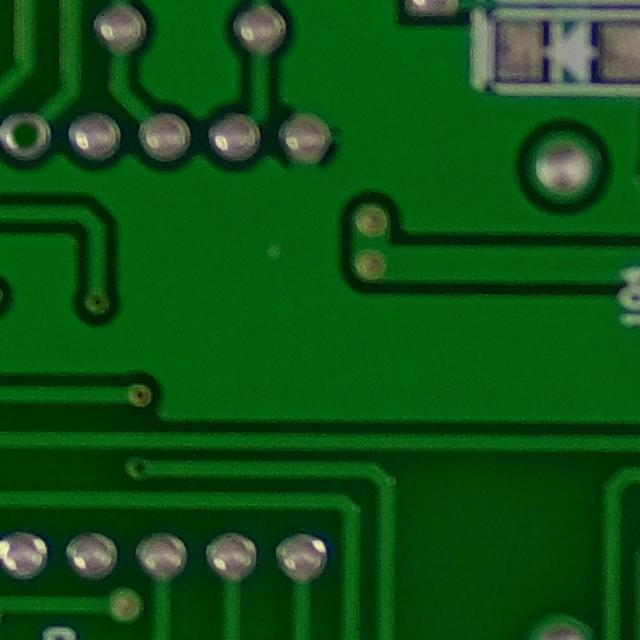missing_hole: (0, 103, 57, 173)
